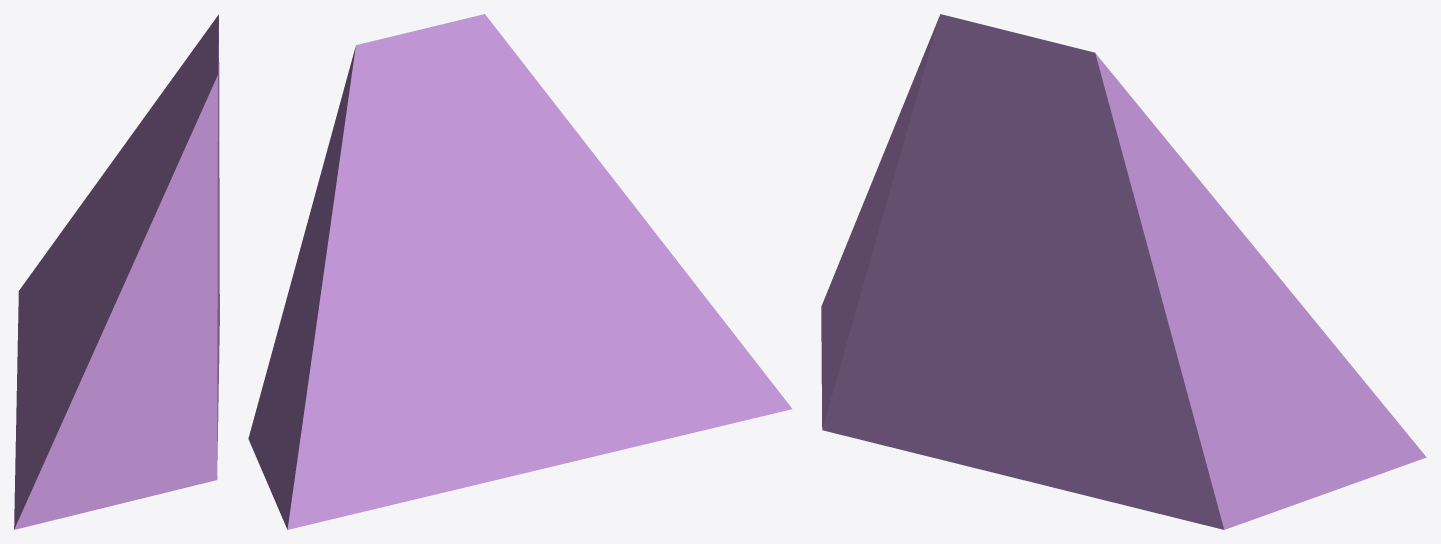
3 renders of one model, left to right at view 1: azimuth 30°, elevation 25°; view 2: azimuth 150°, elevation 25°; view 3: azimuth 270°, elevation 25°, orthographic. The views are drawn at different scales.
Visible parts, largest first — view 1: Circle.002; view 2: Circle.002; view 3: Circle.002.
Part boxes in pixels (x1=…): Circle.002: x1=14, y1=14, x2=219, y2=529; Circle.002: x1=248, y1=14, x2=791, y2=529; Circle.002: x1=821, y1=14, x2=1426, y2=529.
Size of the model in its own units: 2.59 by 2.42 by 2.98.
